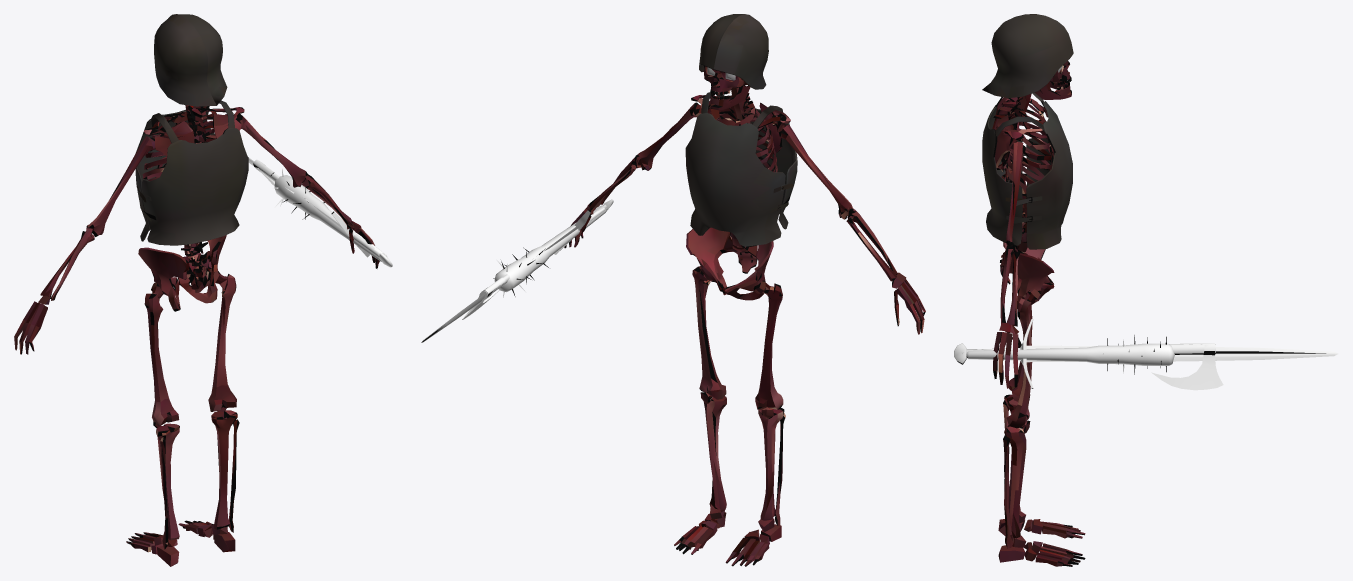
3 views of the same model, side by side, from view 1: azimuth 30°, elevation 25°; view 2: azimuth 150°, elevation 25°; view 3: azimuth 270°, elevation 25° (orthographic).
Visible parts, largest first — view 1: mesh_0; view 2: mesh_0; view 3: mesh_0.
Part boxes in pixels (x1,y1,x2,y2): mesh_0: (14,14,392,566); mesh_0: (421,14,925,566); mesh_0: (954,14,1338,566).
Size of the model in its own units: 52.26 by 73.09 by 47.9.
1 material, 1 textured.
